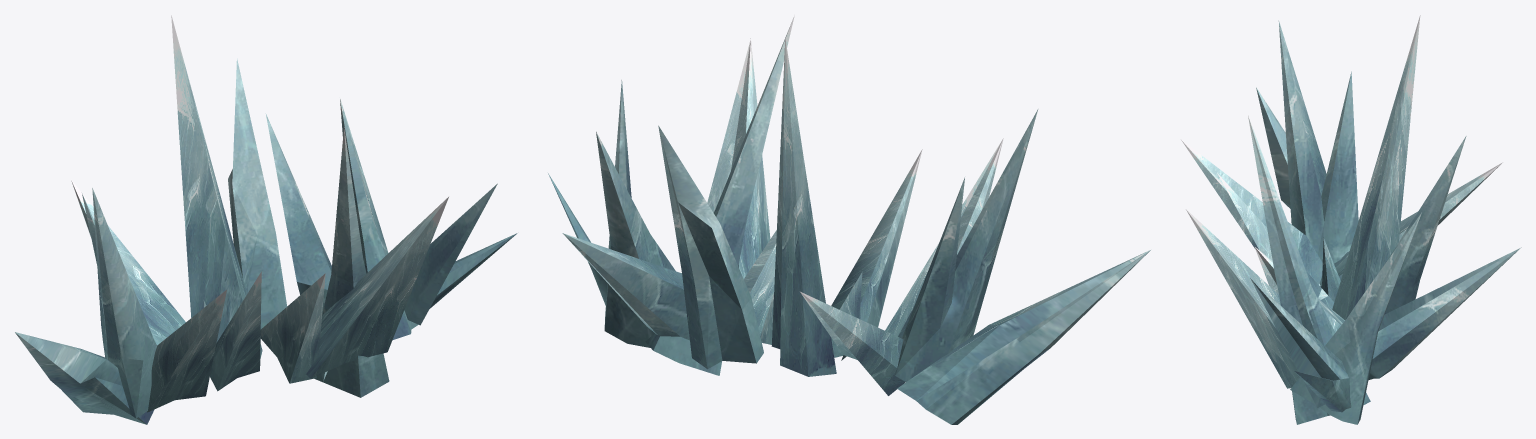
Rendered from environment_stone_bingzhui_001_a.FBX.
The picture shows the model from 3 angles, left to right: view 1: azimuth 30°, elevation 25°; view 2: azimuth 150°, elevation 25°; view 3: azimuth 270°, elevation 25°; orthographic projection. The views are drawn at different scales.
Parts seen in each view (by area): view 1: environment_stone_bingzhui_001_a; view 2: environment_stone_bingzhui_001_a; view 3: environment_stone_bingzhui_001_a.
Part boxes in pixels (x1,y1,x2,y2): environment_stone_bingzhui_001_a: [15, 15, 517, 424]; environment_stone_bingzhui_001_a: [548, 15, 1150, 424]; environment_stone_bingzhui_001_a: [1181, 15, 1521, 424].
Size of the model in its own units: 1030 by 688 by 611.
Materials: 1 (1 with a texture image).
